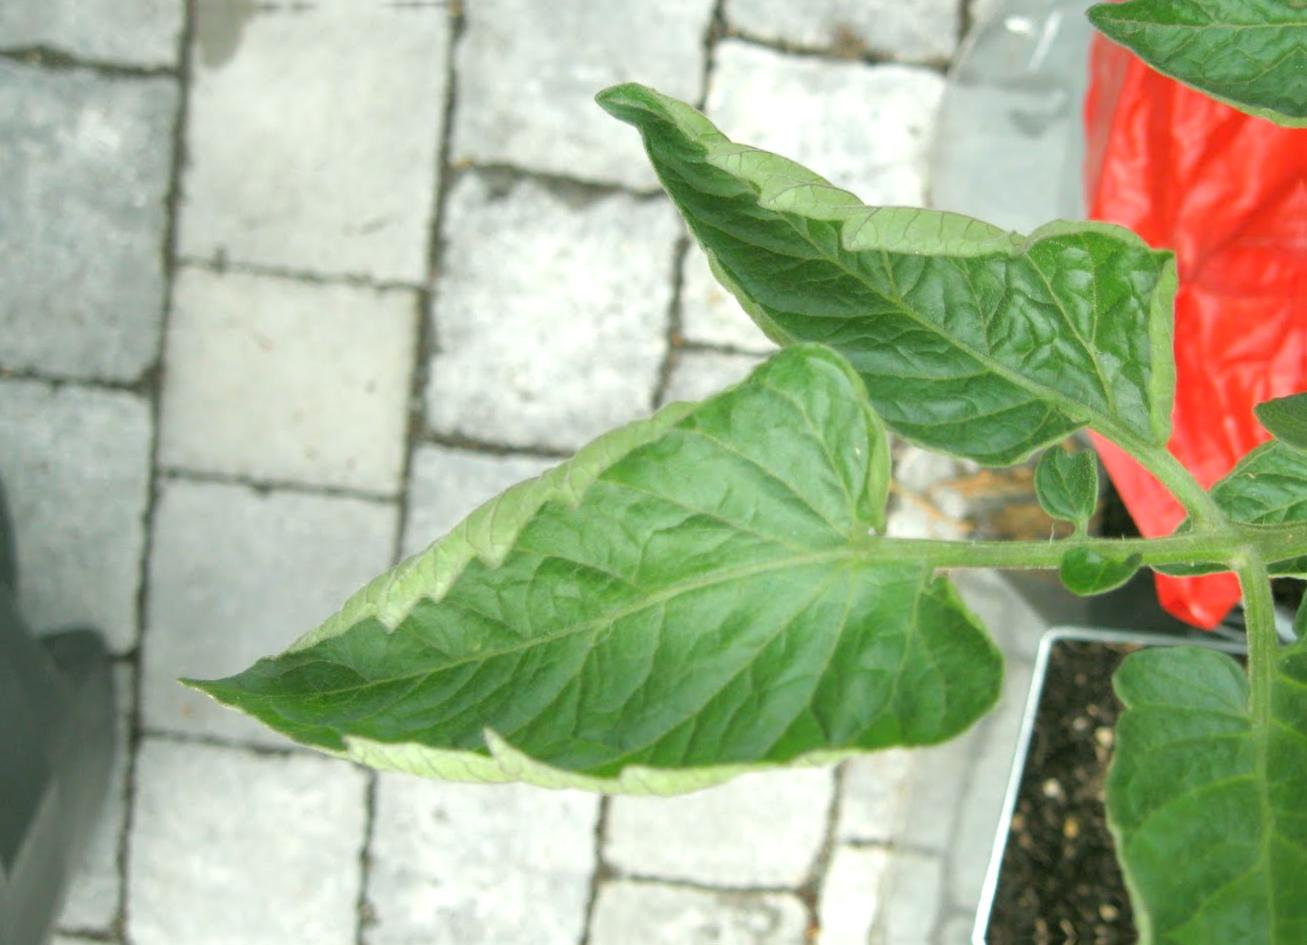Tomato leaf: (211, 340, 1008, 790), (588, 21, 1202, 489), (1093, 557, 1307, 937)
